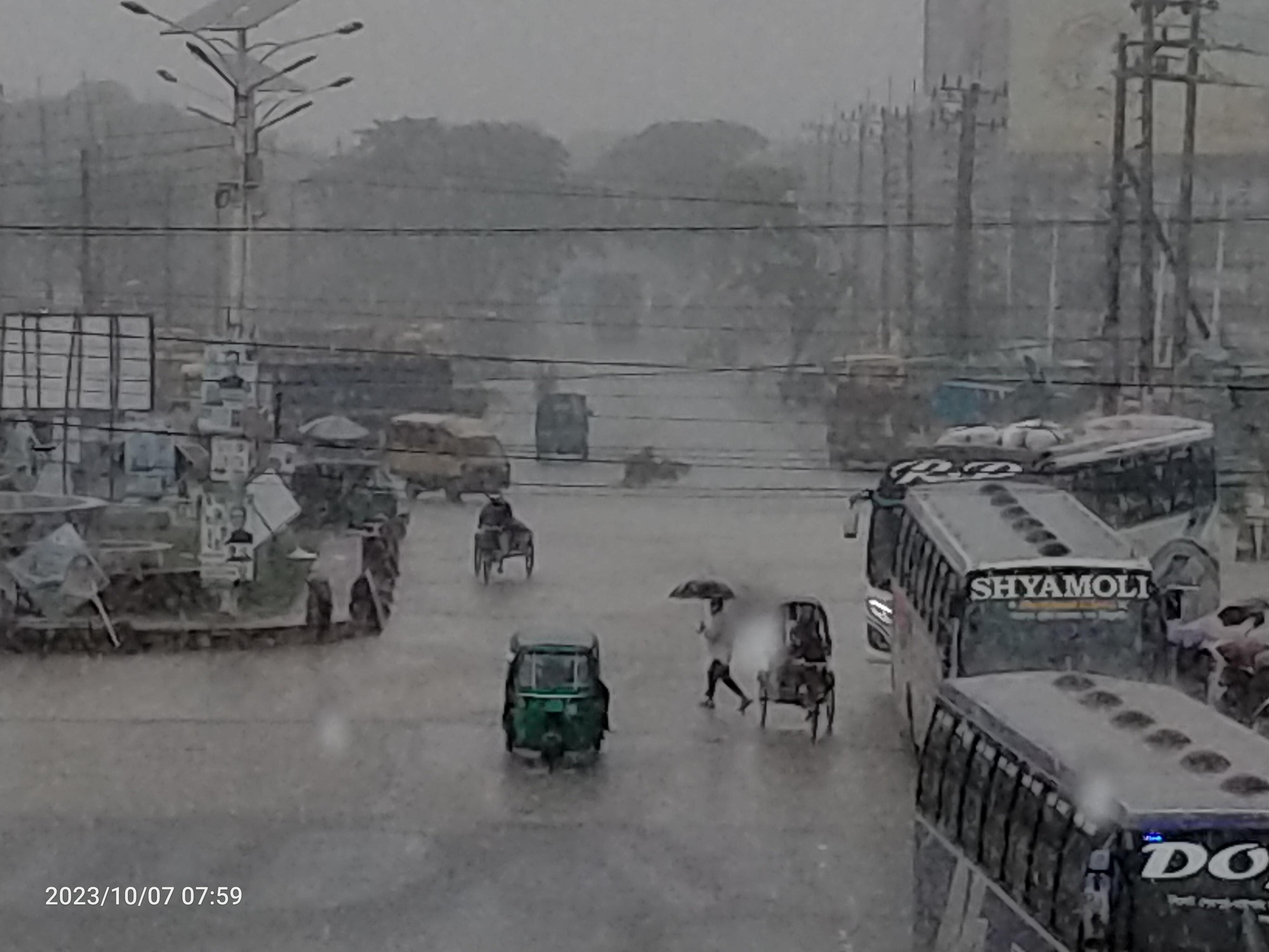Bus: (899, 663, 1269, 952), (852, 403, 1253, 654), (884, 473, 1212, 770)
Car: (369, 396, 517, 509), (749, 585, 849, 748)
